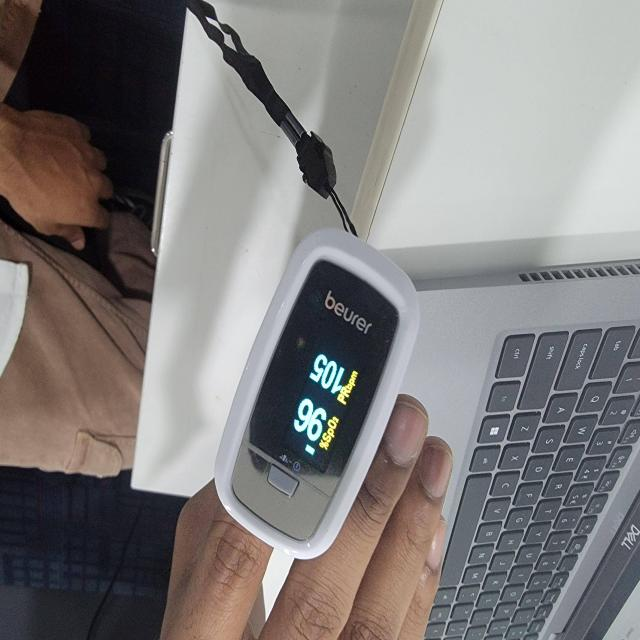spo2: (213, 230, 420, 562)
